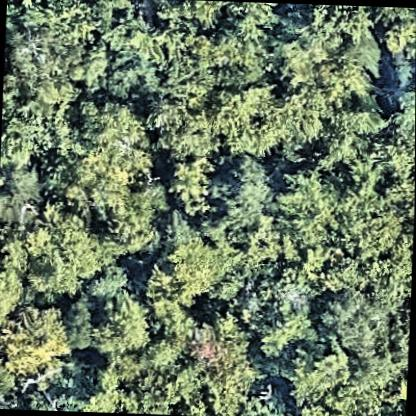tree-top: (145, 224, 239, 311), (21, 203, 107, 297), (7, 14, 91, 110), (69, 98, 152, 195), (179, 316, 257, 408), (270, 13, 355, 92), (0, 69, 64, 172), (0, 296, 75, 381), (212, 81, 292, 156), (250, 272, 319, 354), (274, 170, 341, 250), (336, 186, 406, 260), (208, 152, 277, 226), (286, 342, 353, 411), (87, 292, 155, 358), (318, 292, 388, 354), (152, 99, 220, 158), (98, 54, 167, 108), (88, 0, 150, 60), (164, 154, 218, 214), (257, 304, 314, 359), (150, 0, 226, 39), (0, 166, 42, 229), (52, 384, 131, 413), (377, 10, 416, 65), (62, 288, 96, 350), (82, 261, 127, 306), (390, 74, 416, 149), (0, 258, 24, 325)
